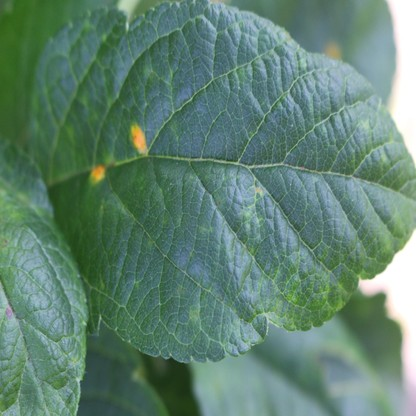rust: (129, 122, 149, 156), (87, 165, 105, 184), (323, 42, 341, 61), (5, 308, 12, 319)
scab: (0, 239, 8, 248)
